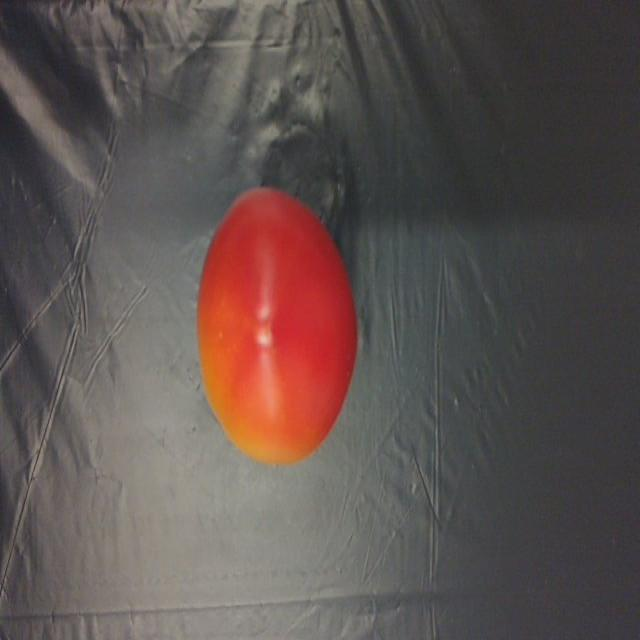kirmizi: (194, 185, 363, 457)
